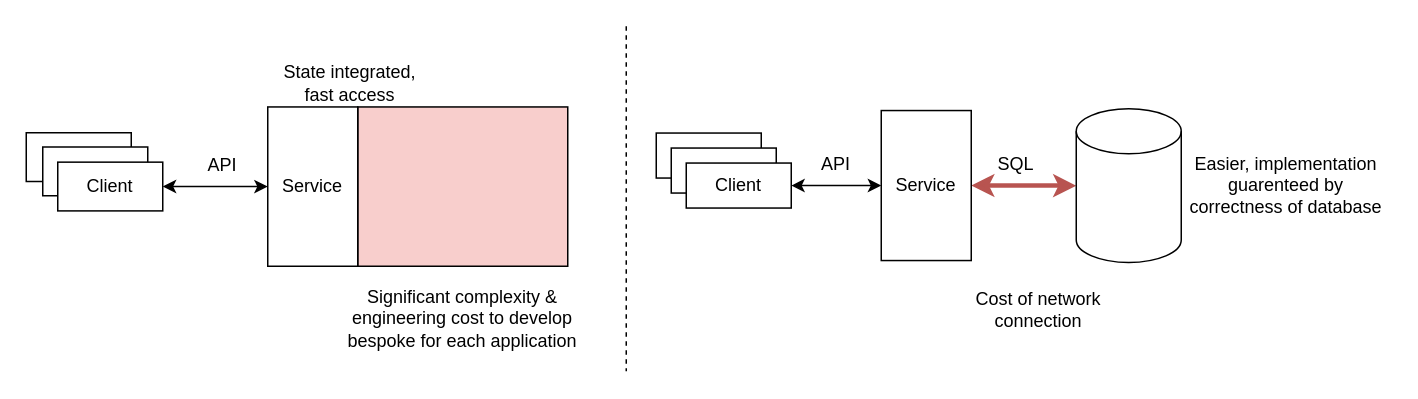
This 1418x399 diagram has some shape labels left out. Each missing label, with the box of its shape:
Complex State: (1075, 107, 1181, 262)
Complex State Complex References, Constraints, Concurrency: (356, 105, 568, 266)
